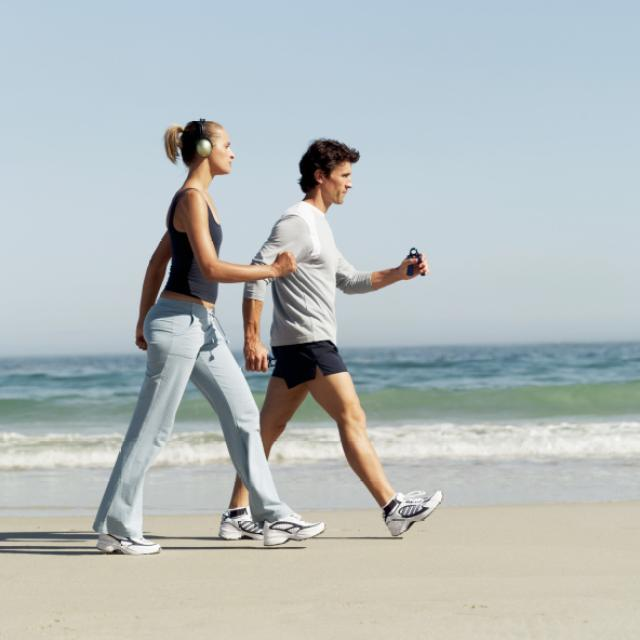Person: (92, 116, 326, 557), (218, 138, 444, 540)
